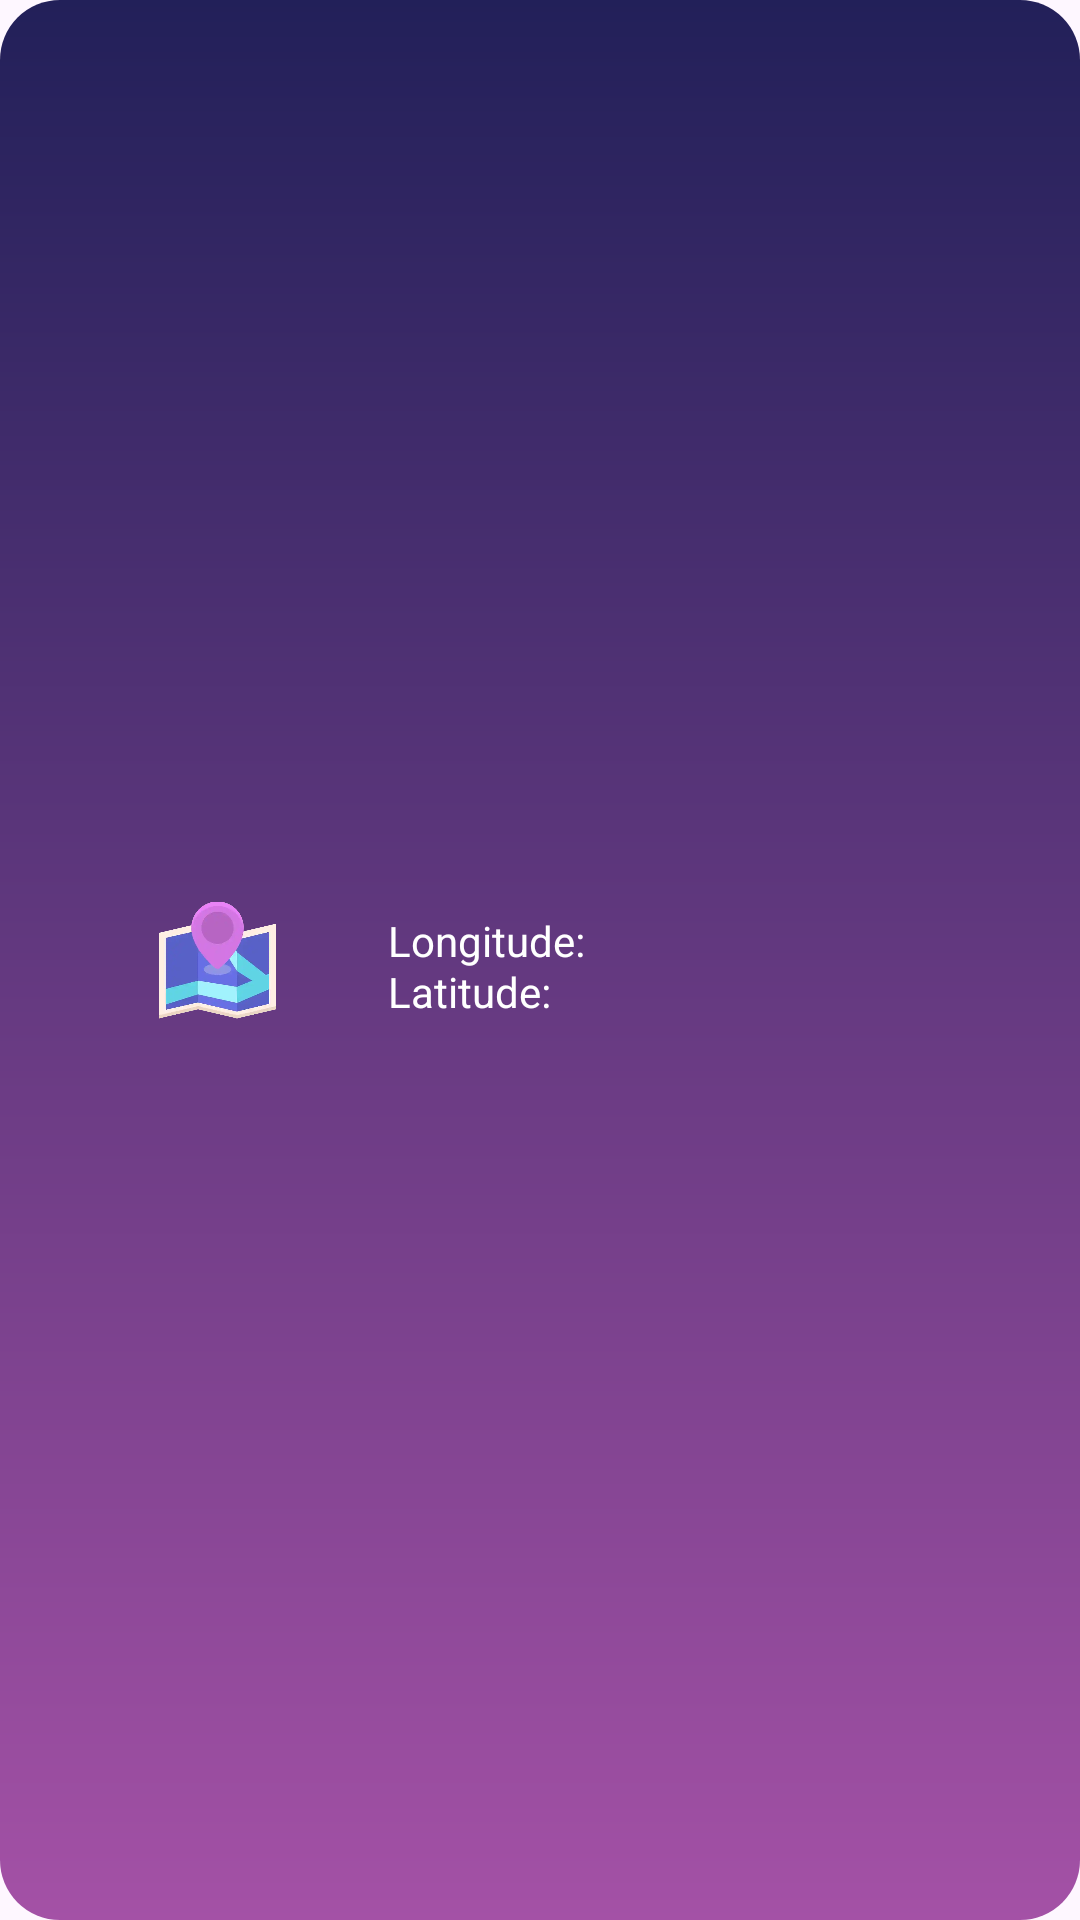

Named icons in this screenshot (1080px x 1920px) and their bounding boxes, (x1, y1, x2, y2):
Location icon: (159, 902, 276, 1019)
